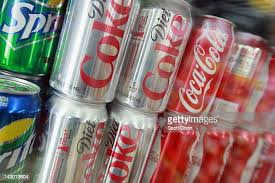can: (48, 0, 143, 102), (116, 0, 194, 112), (26, 92, 109, 181), (167, 14, 236, 121), (0, 1, 67, 81), (97, 104, 157, 182), (0, 76, 43, 182), (216, 32, 263, 104)
